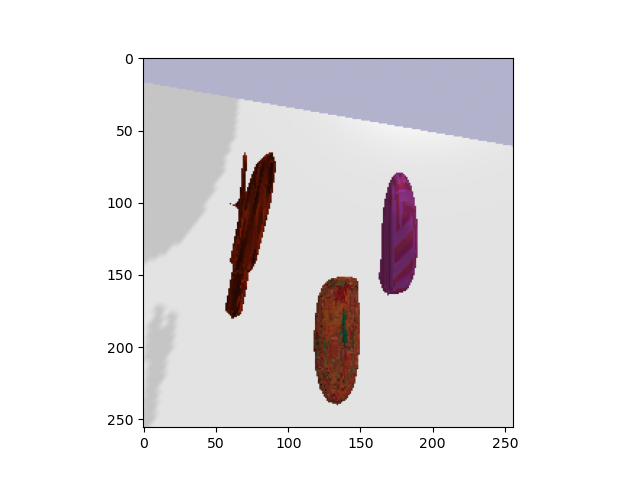v249b387_105: (369, 171, 435, 302)
v249b387_106: (307, 275, 372, 409)
v249b387_107: (225, 144, 283, 327)
